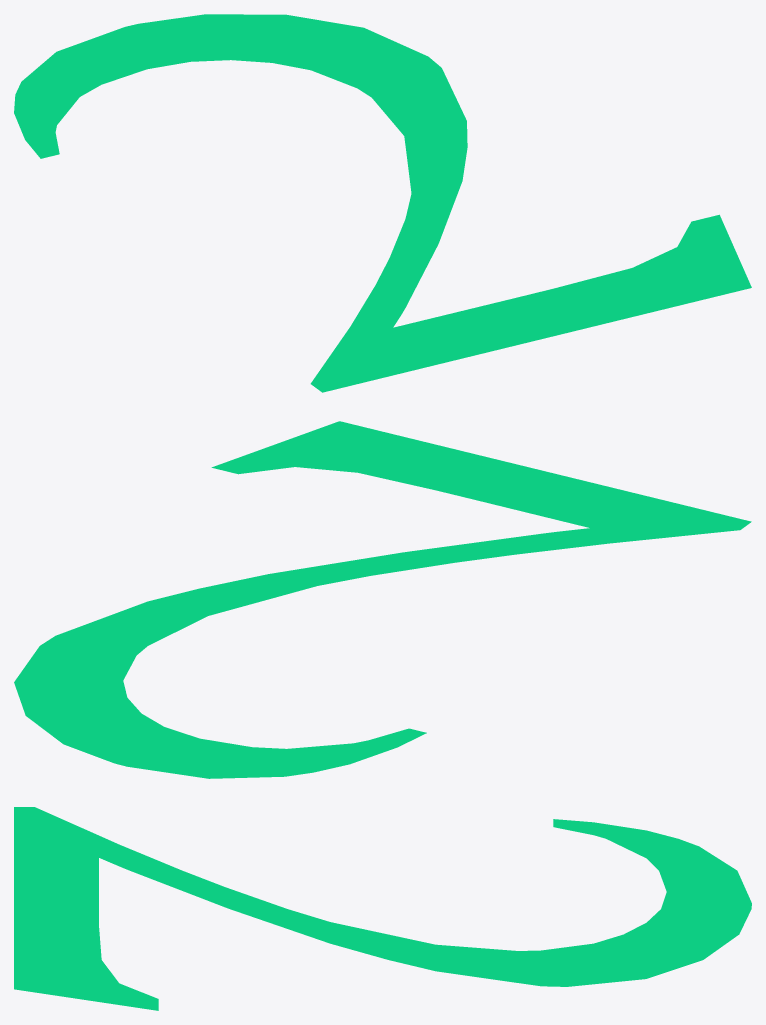
3 views of the same model, one above another, from view 1: azimuth 30°, elevation 25°; view 2: azimuth 150°, elevation 25°; view 3: azimuth 270°, elevation 25° (orthographic). The views are drawn at different scales.
Visible parts, largest first — view 1: Trim_Char_x_1_1; view 2: Trim_Char_x_1_1; view 3: Trim_Char_x_1_1.
Part boxes in pixels (x1=…): Trim_Char_x_1_1: x1=14, y1=14, x2=751, y2=392; Trim_Char_x_1_1: x1=14, y1=421, x2=751, y2=778; Trim_Char_x_1_1: x1=14, y1=807, x2=751, y2=1010.
Size of the model in its own units: 17 by 1.55e-15 by 26.
